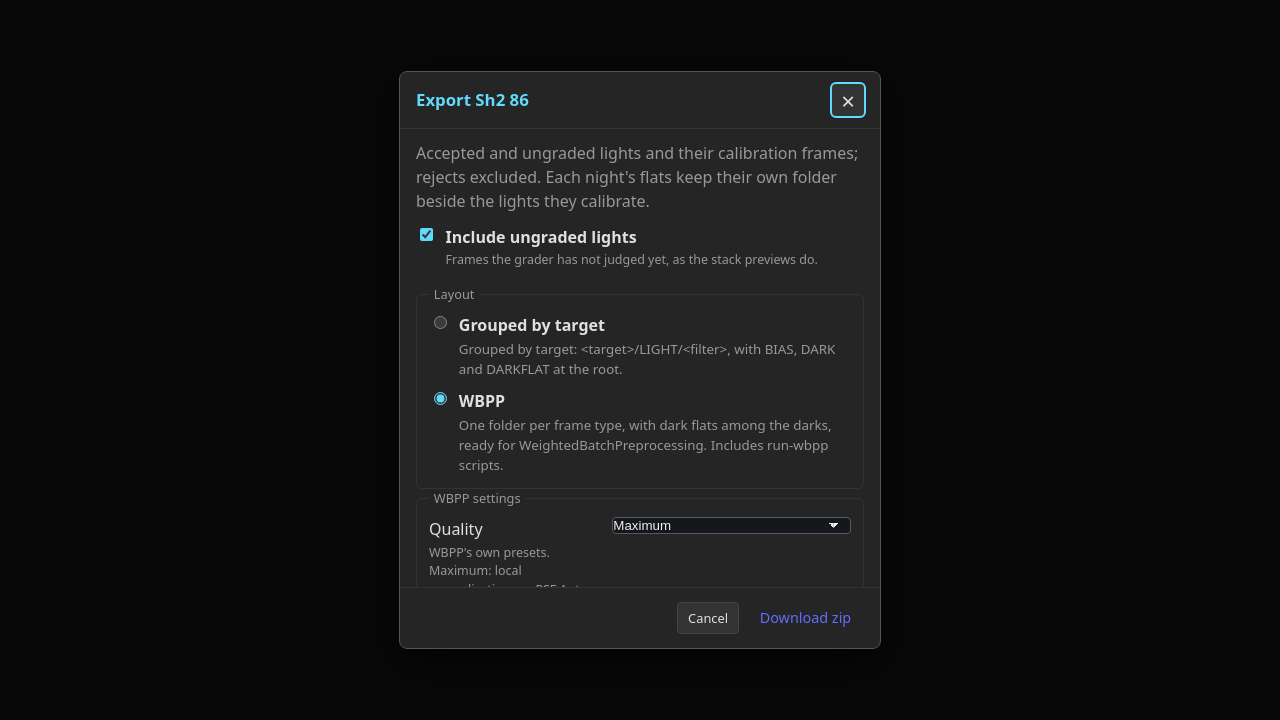
Test: ExportDialog › lets a zip download carry the scripts alone, naming the frames in place
Click the checkbox labelled "Include ungraded lights".
click(426, 235)  # box [420,228,433,241]
(page scrolled)
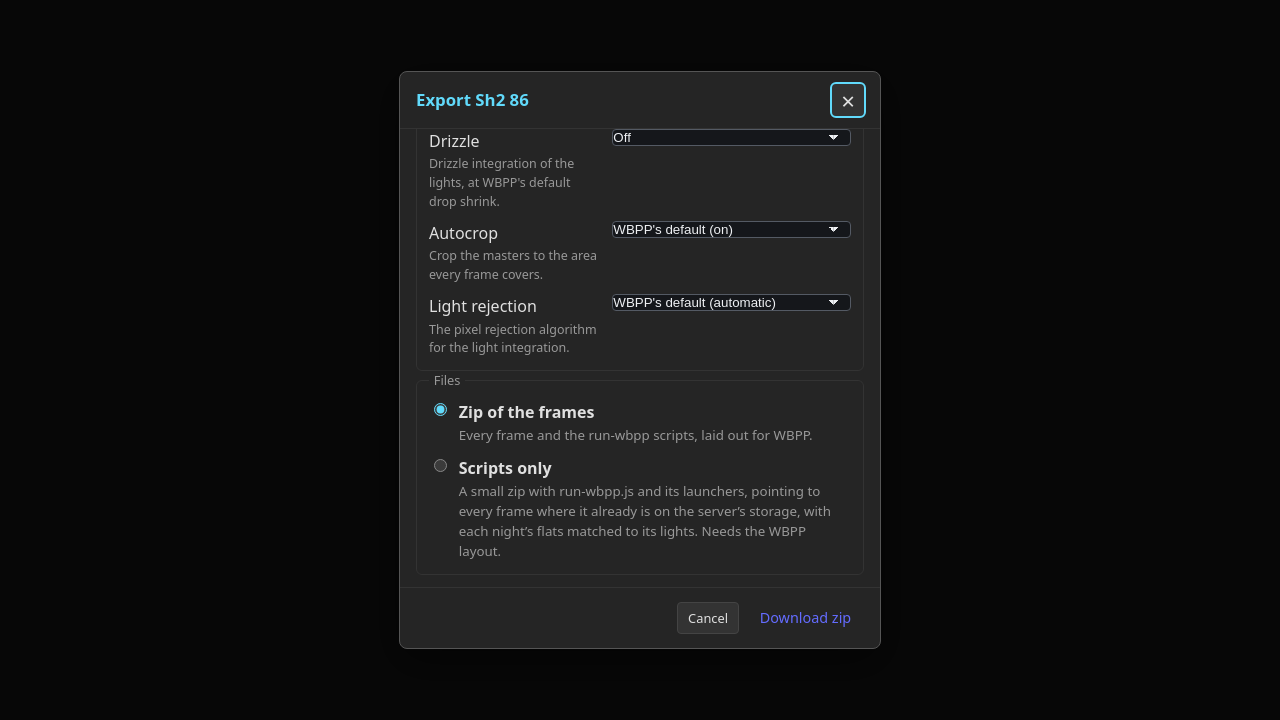
Click the radio button labelled "Scripts only".
click(440, 466)  # box [434,459,447,472]
(page scrolled)
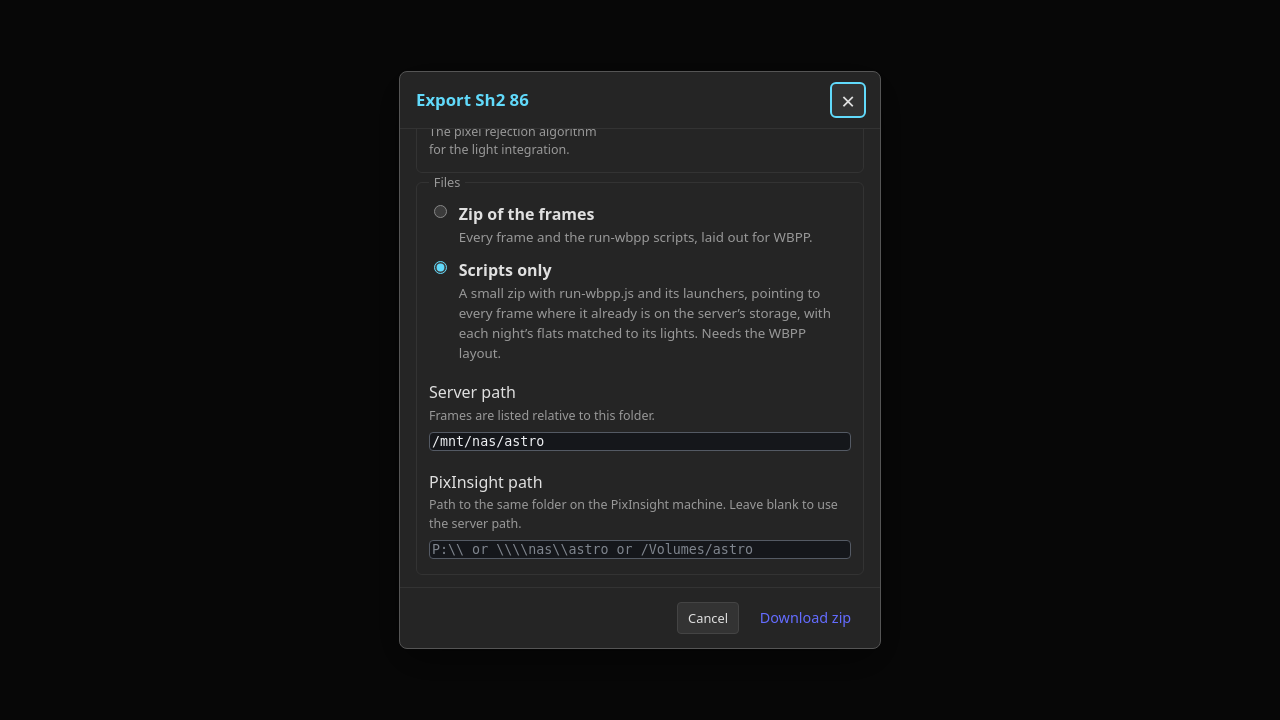
Type "P:\\" into the field labelled "PixInsight path".
click(640, 550); type("P:\\")  # box [429,540,851,559]
(page scrolled)
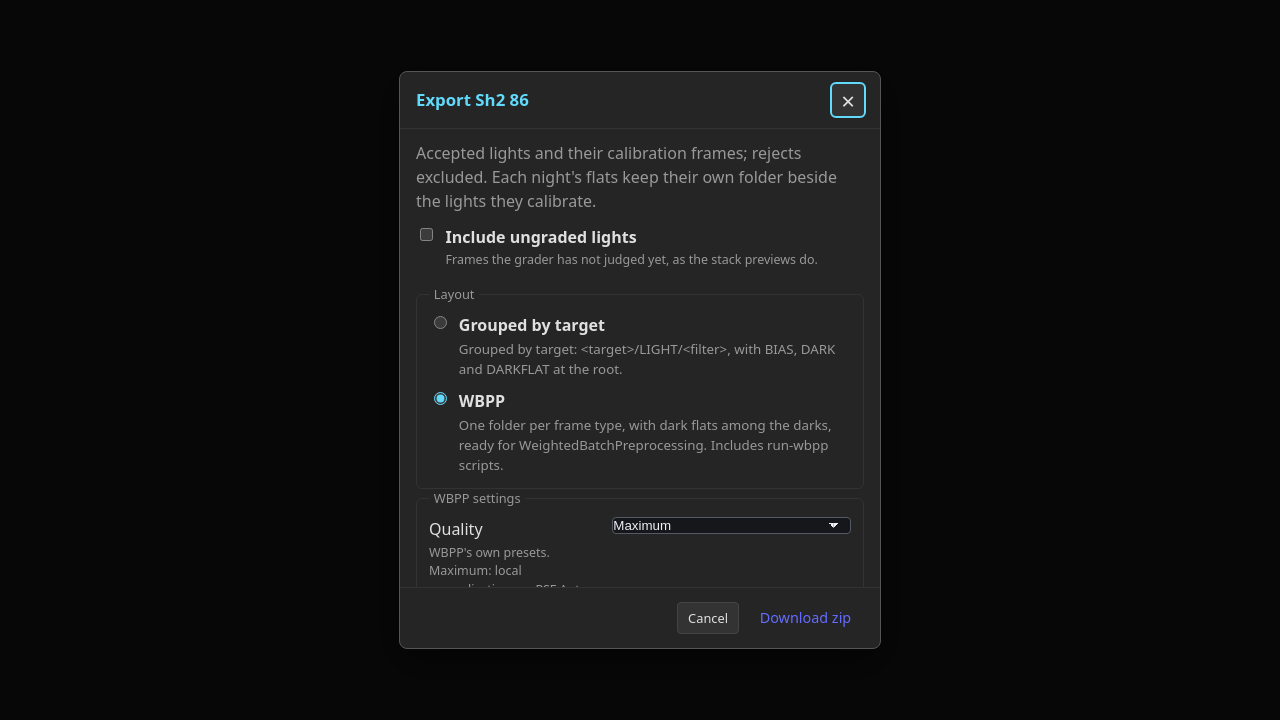
Click the radio button labelled "Grouped by target".
click(440, 323)  # box [434,316,447,330]
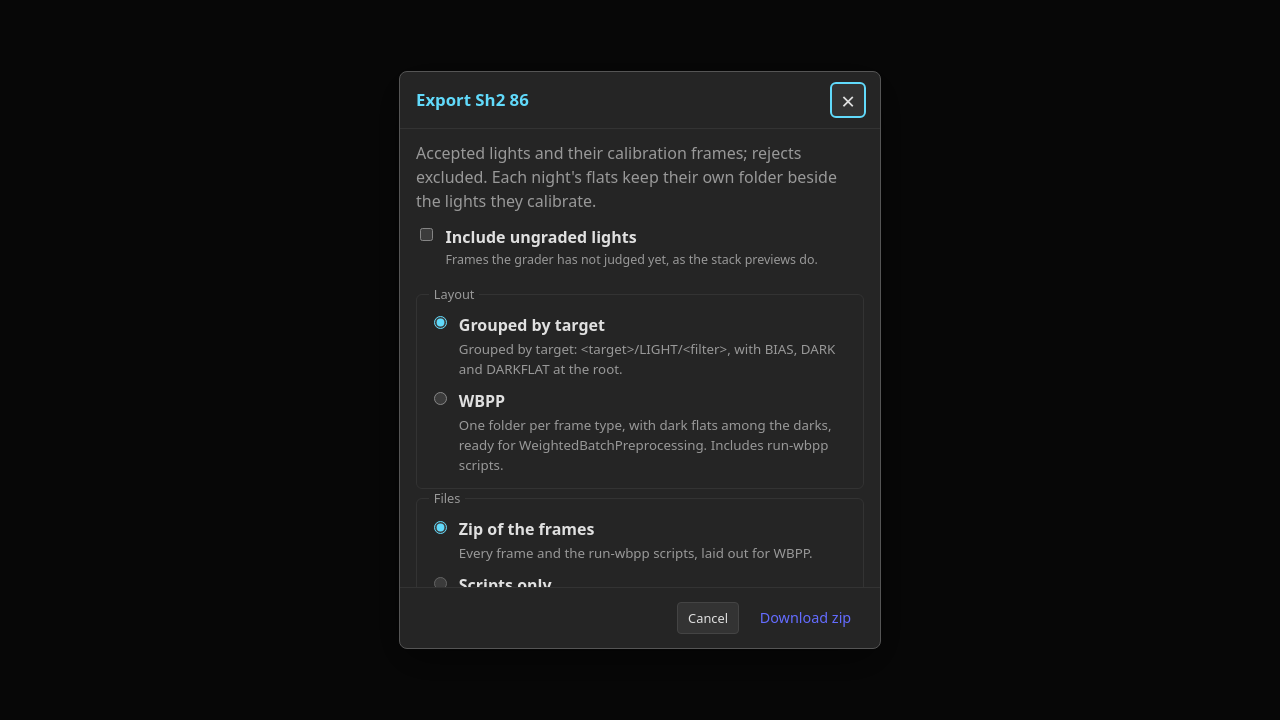
Result: the radio button labelled "Scripts only" is disabled at [434,576,447,587]
